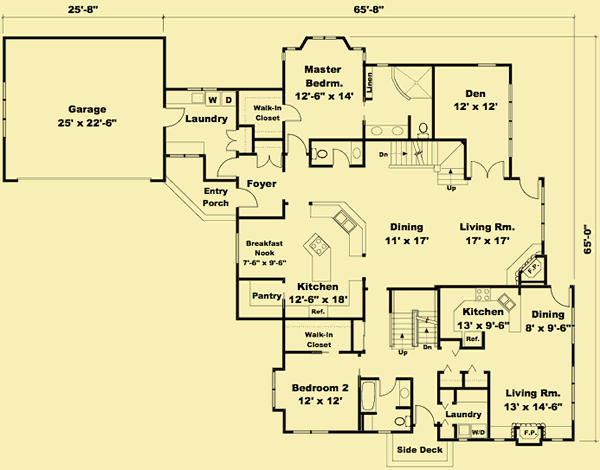door: (469, 158, 505, 183), (518, 176, 543, 203), (253, 152, 286, 172), (162, 105, 186, 129), (236, 184, 260, 208), (413, 404, 436, 428), (284, 131, 306, 156), (215, 157, 238, 179), (549, 286, 571, 309), (280, 103, 304, 122), (378, 375, 396, 397), (332, 148, 350, 169), (224, 128, 238, 154)
kitchen_bar: (301, 230, 335, 282)
large_sink: (310, 144, 331, 164), (415, 122, 431, 142), (391, 413, 412, 427)
small_sink: (364, 123, 408, 140), (397, 379, 412, 406), (350, 141, 362, 165)
stairs: (381, 139, 467, 186), (387, 286, 440, 357)
tub: (360, 378, 375, 413)
twin_sink: (335, 210, 357, 234), (498, 292, 518, 313)
window: (506, 82, 514, 162), (569, 364, 577, 421), (270, 369, 278, 408), (290, 427, 329, 435), (234, 231, 240, 269), (164, 153, 202, 159), (309, 33, 341, 40)
